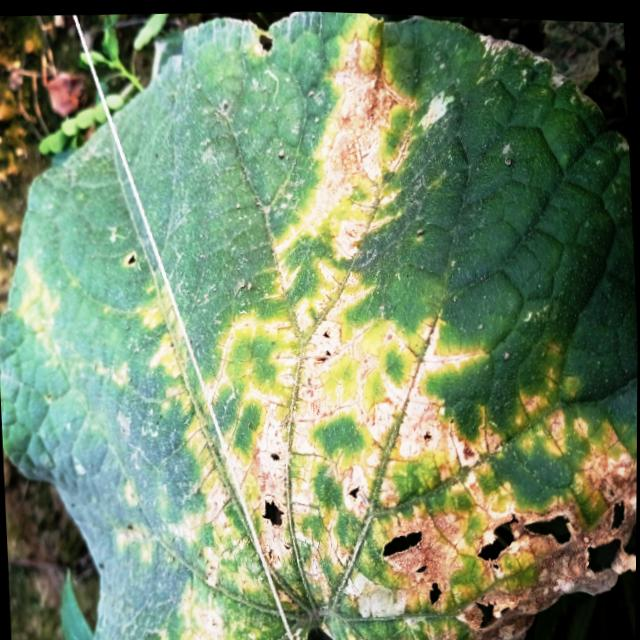Anthracnose: (371, 477, 634, 638), (256, 484, 288, 540)
